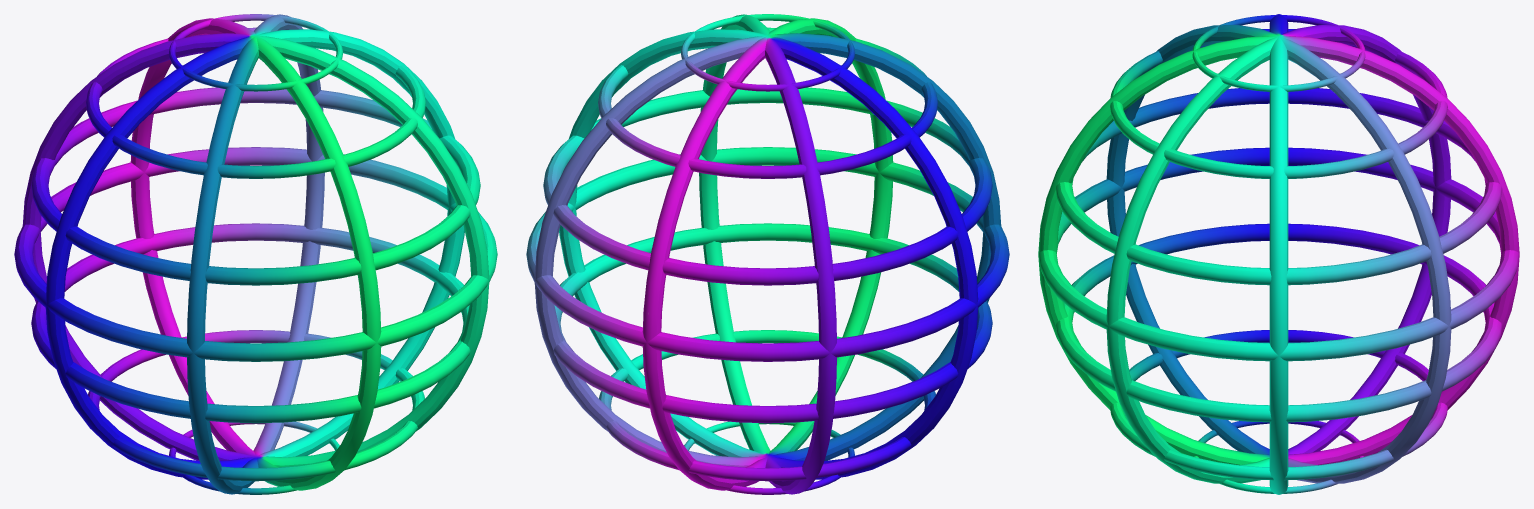
The model's file is Particle-33.dae.
3 renders of one model, left to right at view 1: azimuth 30°, elevation 25°; view 2: azimuth 150°, elevation 25°; view 3: azimuth 270°, elevation 25°, orthographic.
Visible parts, largest first — view 1: Particle; view 2: Particle; view 3: Particle.
Part boxes in pixels (<box>): Particle: <box>14,14,497,494</box>; Particle: <box>526,14,1009,494</box>; Particle: <box>1038,14,1519,494</box>.
Size of the model in its own units: 0.104 by 0.104 by 0.104.
1 material, 1 textured.
